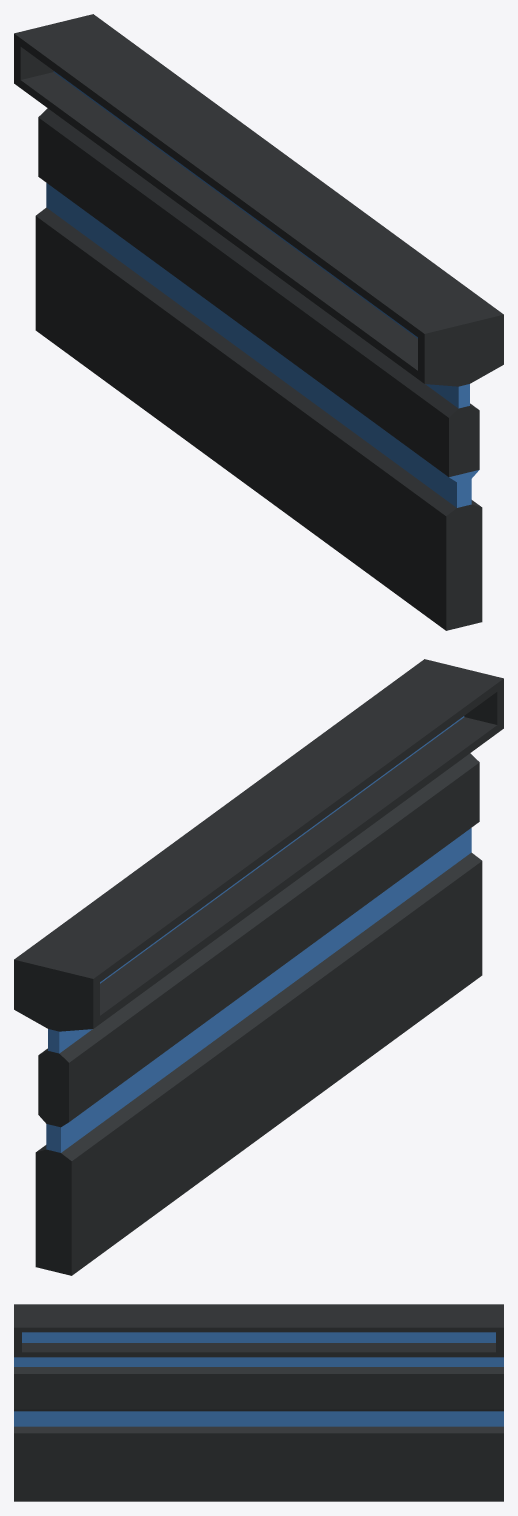
File: Wall.fbx
The picture shows the model from 3 angles, top to bottom: view 1: azimuth 30°, elevation 25°; view 2: azimuth 150°, elevation 25°; view 3: azimuth 270°, elevation 25°; orthographic projection. The views are drawn at different scales.
Parts seen in each view (by area): view 1: Cube.176; view 2: Cube.176; view 3: Cube.176.
Boxes of the visible parts, x1,y1,x2,y2 form: Cube.176: [14, 14, 503, 630]; Cube.176: [14, 659, 503, 1275]; Cube.176: [14, 1304, 503, 1501].
Size of the model in its own units: 145 by 528 by 1299.
